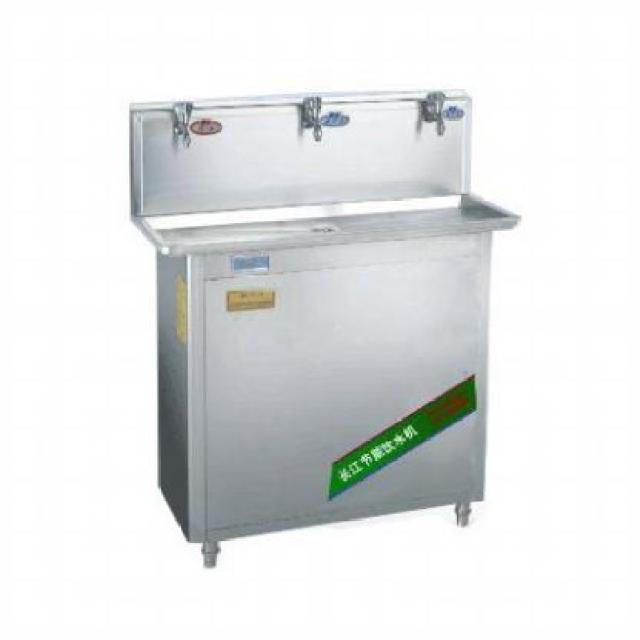cooler: (126, 86, 522, 571)
